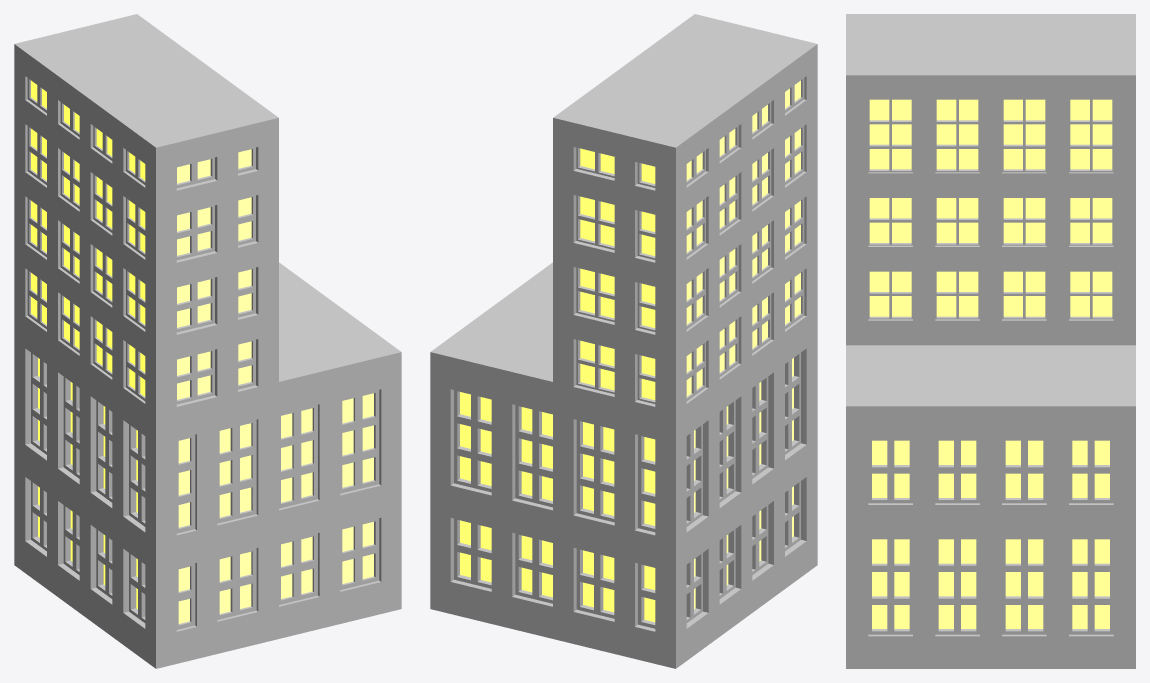
File: modular_tower_1.fbx
3 views of the same model, side by side, from view 1: azimuth 30°, elevation 25°; view 2: azimuth 150°, elevation 25°; view 3: azimuth 270°, elevation 25° (orthographic). The views are drawn at different scales.
Parts seen in each view (by area): view 1: Cube; view 2: Cube; view 3: Cube.
Boxes of the visible parts, bbox=[...] form: Cube: bbox=[14, 14, 401, 668]; Cube: bbox=[430, 14, 817, 668]; Cube: bbox=[846, 14, 1135, 668].
Bounding box in the file's own units: 200 × 406 × 200.
